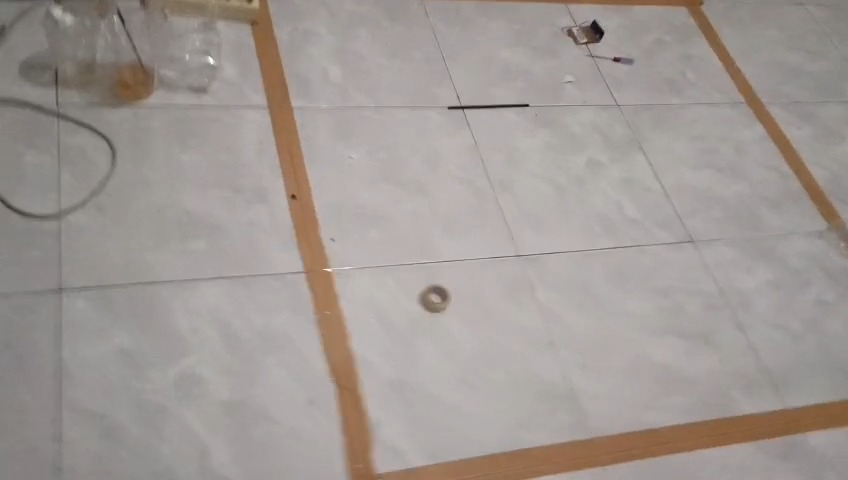floor marking: (252, 0, 847, 479), (574, 0, 847, 252)
